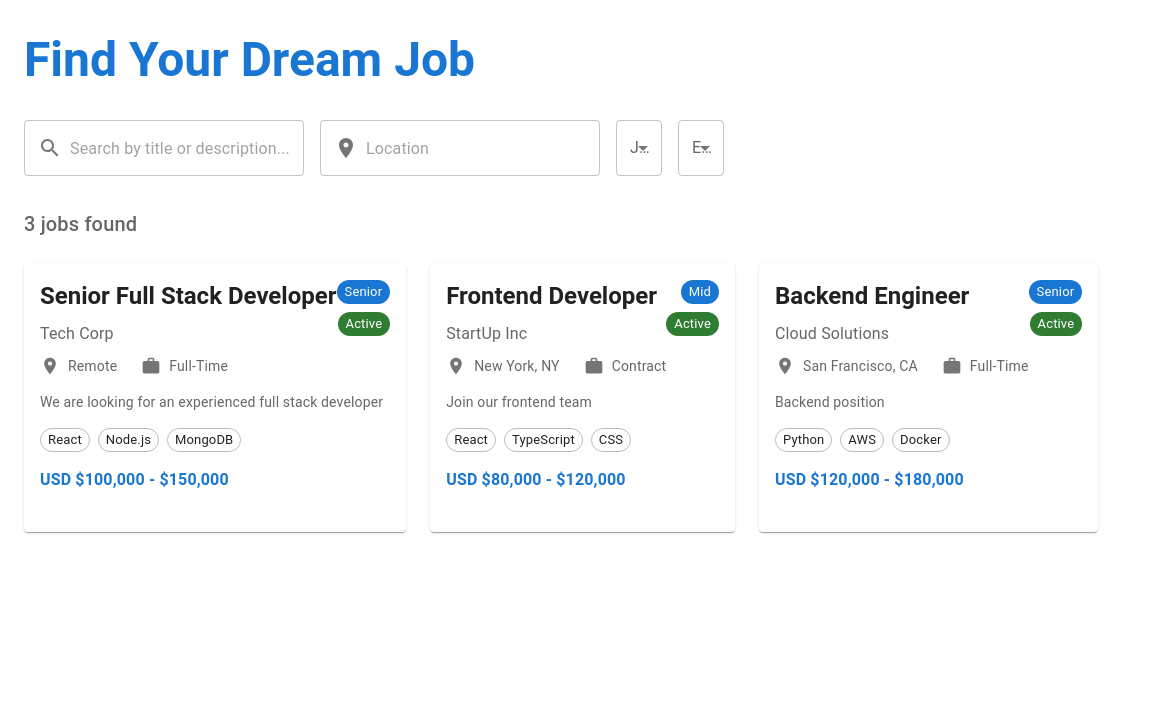
Scenario: JobListings Component › filters jobs by search term - company name
Expected: the heading "Senior Full Stack Developer" is shown, [40,280,336,312]
Type "StartUp" into the field with placeholder "Search by title or description..." at (187, 148), box [70,120,304,176]
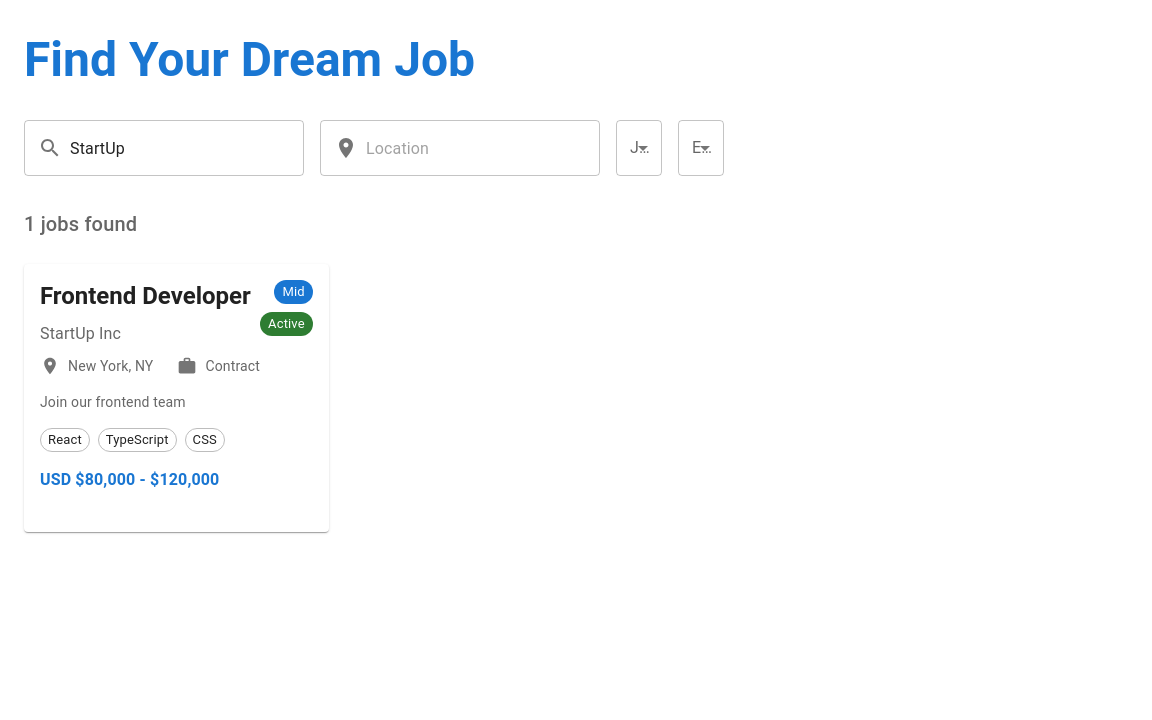
Expected: the heading "Frontend Developer" is shown, [40,280,251,312]
Now the heading "Tech Corp" is gone
